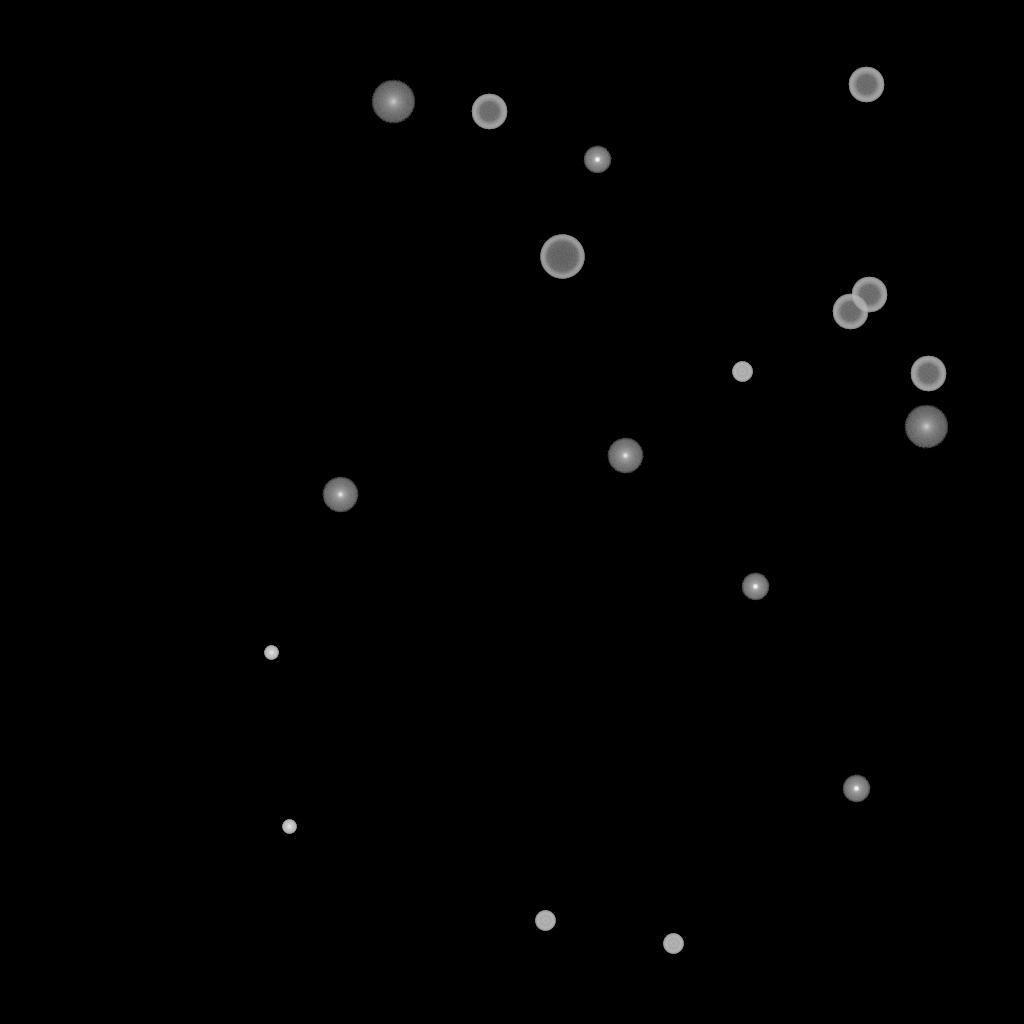depth:-10: (741, 573, 769, 601), (583, 146, 611, 174), (842, 775, 870, 803)
depth:-30: (264, 646, 278, 660), (282, 820, 296, 834)
depth:-40: (732, 362, 752, 382), (535, 911, 555, 931), (663, 934, 683, 954)
depth:-60: (910, 356, 946, 392), (471, 94, 507, 130), (848, 67, 884, 103), (851, 277, 887, 313), (832, 294, 868, 330)
depth:-70: (540, 235, 584, 279)
depth:0: (607, 438, 643, 474), (322, 477, 358, 513)
depth:10: (371, 80, 415, 124), (904, 405, 948, 449)
